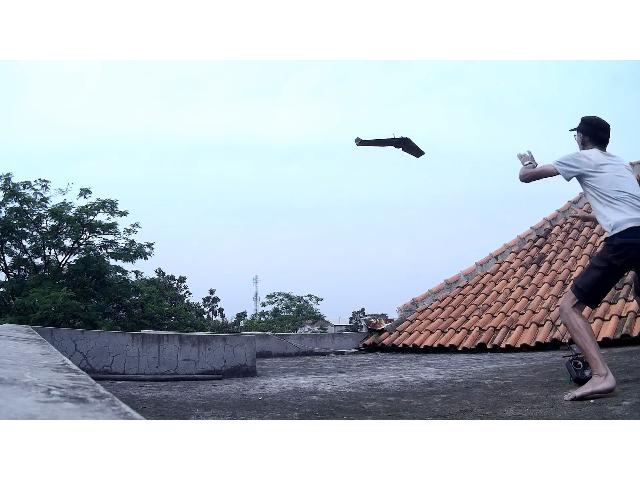Anti-Drone: (334, 112, 448, 178)
